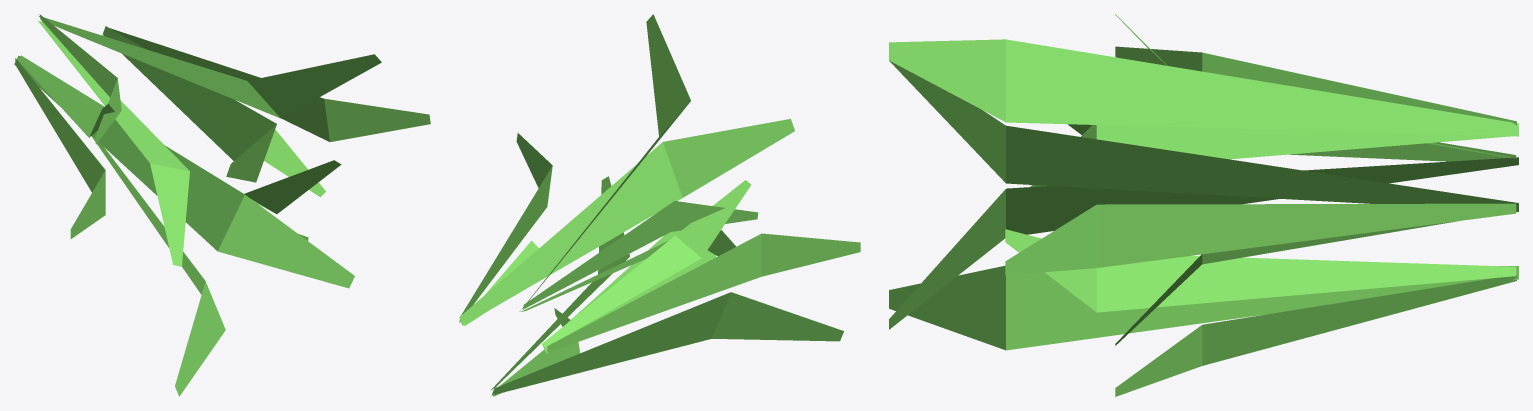
The model's file is grass.gltf.
3 renders of one model, left to right at view 1: azimuth 30°, elevation 25°; view 2: azimuth 150°, elevation 25°; view 3: azimuth 270°, elevation 25°, orthographic. The views are drawn at different scales.
Parts seen in each view (by area): view 1: finale; view 2: finale; view 3: finale.
Boxes of the visible parts, <box> form: finale: <box>14,14,430,396</box>; finale: <box>459,14,860,396</box>; finale: <box>889,14,1518,396</box>.
Size of the model in its own units: 0.9844 by 0.7705 by 1.12.
